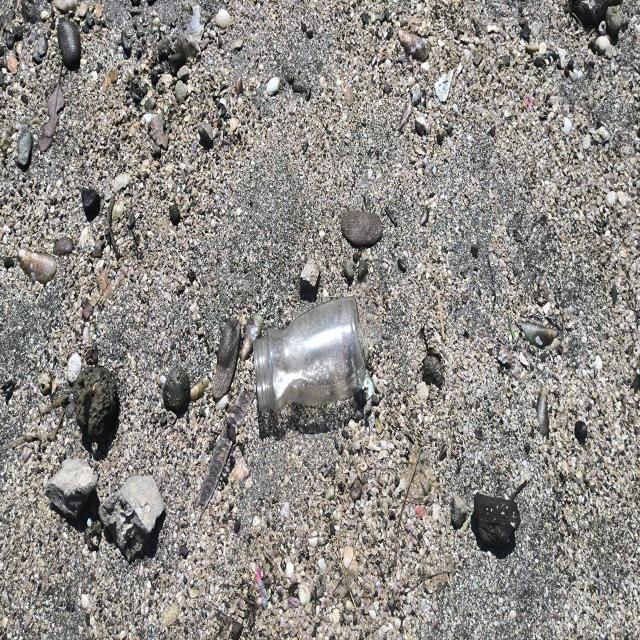plastic_waste: (254, 296, 369, 418)
